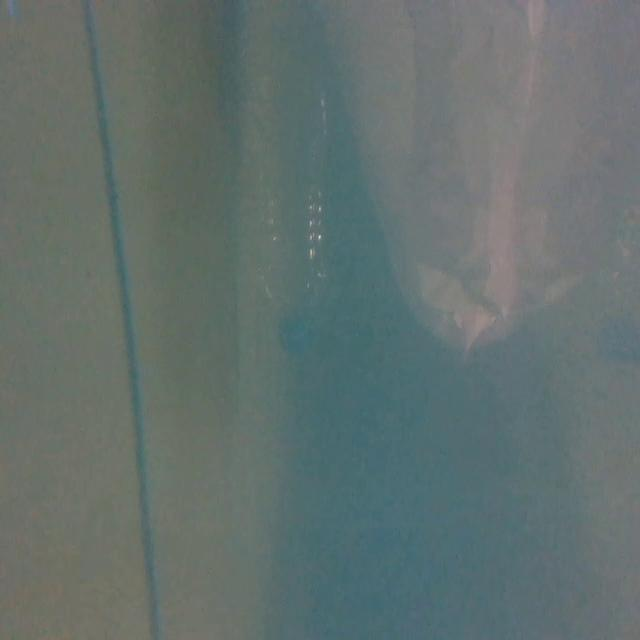plastic bags: (354, 5, 640, 351)
plastic bottle: (248, 69, 341, 358)
